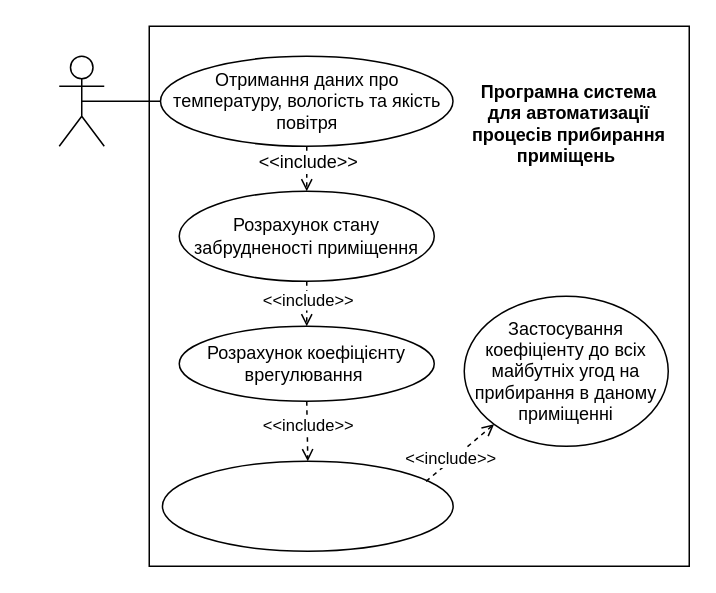
The diagram is 716 pixels wide and 593 high, and some of its shapes have lost their labels. Here are the shapes that lost their labels. From the top down, the centre of each, then its label:
(81,100): IoT - пристрій
(307,505): Відправка інформації про стан приміщення на сервер
